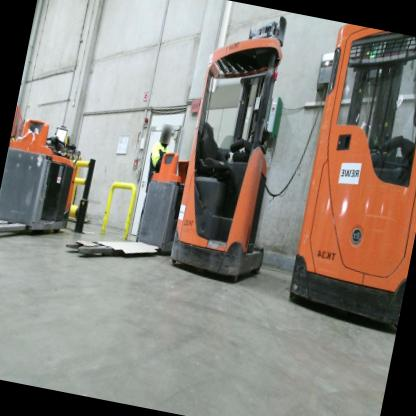forklift: (283, 22, 416, 340), (166, 5, 312, 292)
pallet_truck: (54, 125, 209, 287), (0, 112, 88, 257)
